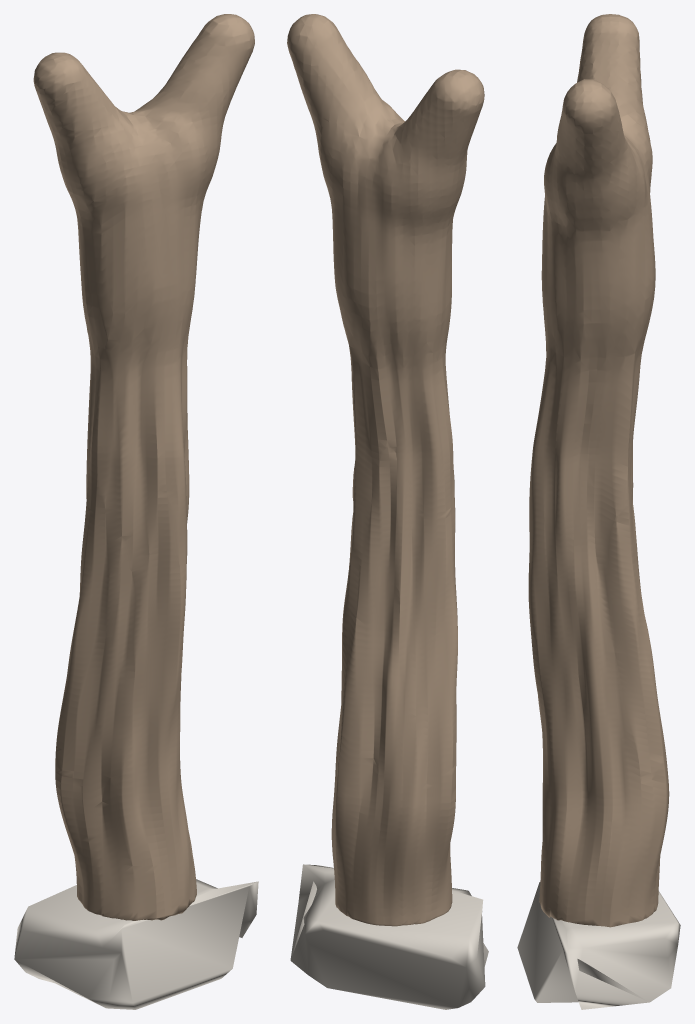
Rendered from bagana-f1-3x10x3-v2.glb.
3 renders of one model, left to right at view 1: azimuth 30°, elevation 25°; view 2: azimuth 150°, elevation 25°; view 3: azimuth 270°, elevation 25°, orthographic.
Parts seen in each view (by area): view 1: bagana_wood, bagana_stone; view 2: bagana_wood, bagana_stone; view 3: bagana_wood, bagana_stone.
Part boxes in pixels (x1,y1,x2,y2): bagana_wood: (33, 14, 254, 920); bagana_stone: (14, 879, 258, 1009); bagana_wood: (287, 14, 484, 926); bagana_stone: (290, 864, 488, 1009); bagana_wood: (528, 14, 669, 927); bagana_stone: (517, 882, 680, 1009).
Bounding box in the file's own units: 0.6597 × 2.75 × 0.4309.
